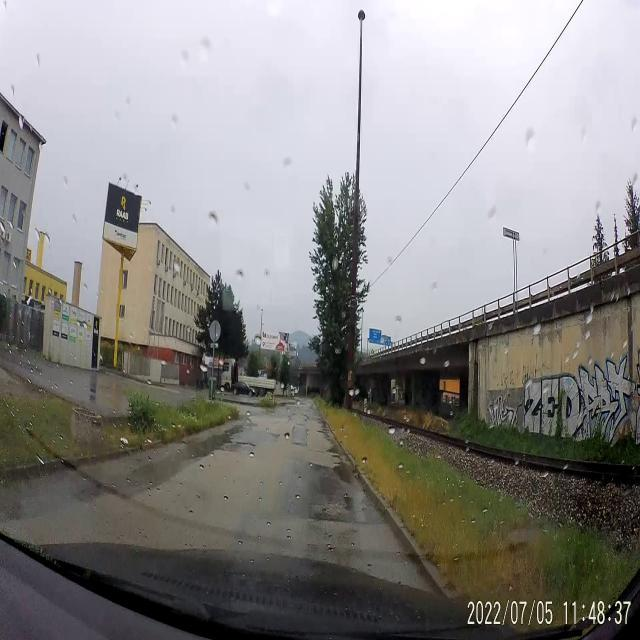Pothole: (308, 494, 356, 522), (235, 440, 258, 450)
